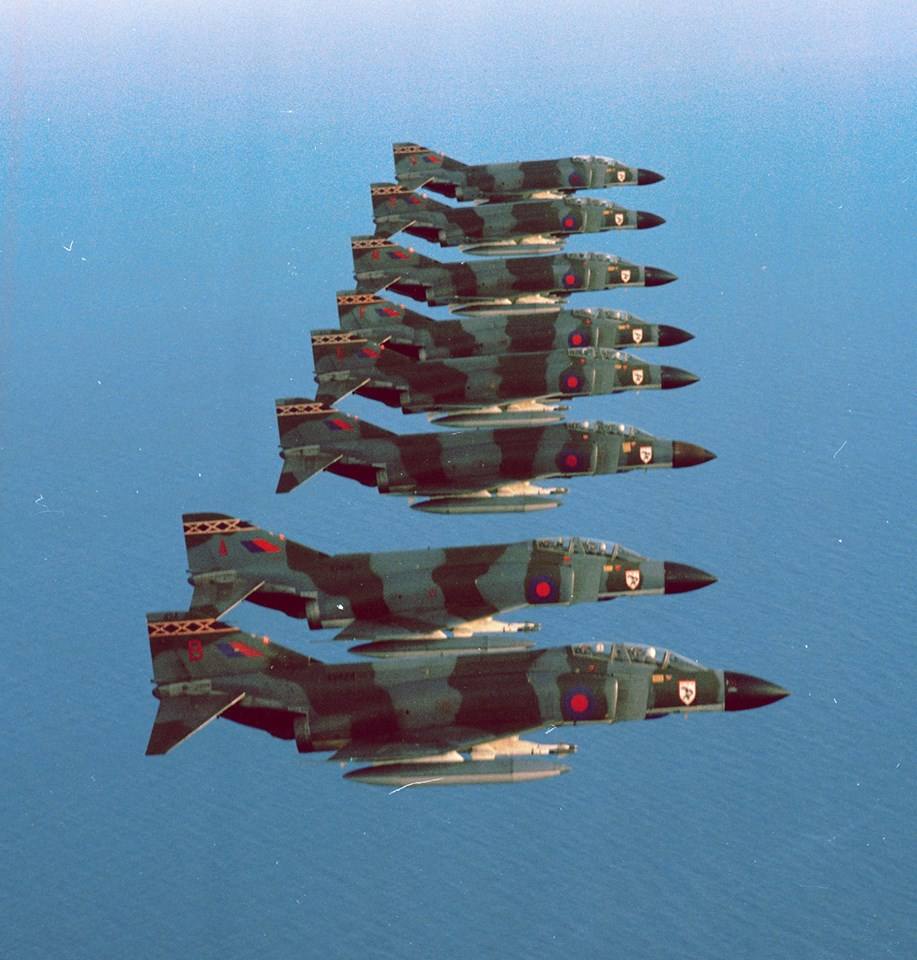F4: (144, 610, 795, 788), (181, 511, 723, 659), (273, 395, 720, 516), (308, 327, 703, 428), (349, 234, 680, 317), (335, 288, 698, 360), (369, 182, 668, 257), (391, 141, 666, 206)
